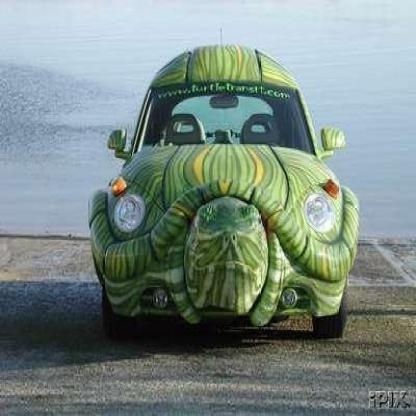car: (88, 44, 361, 339)
